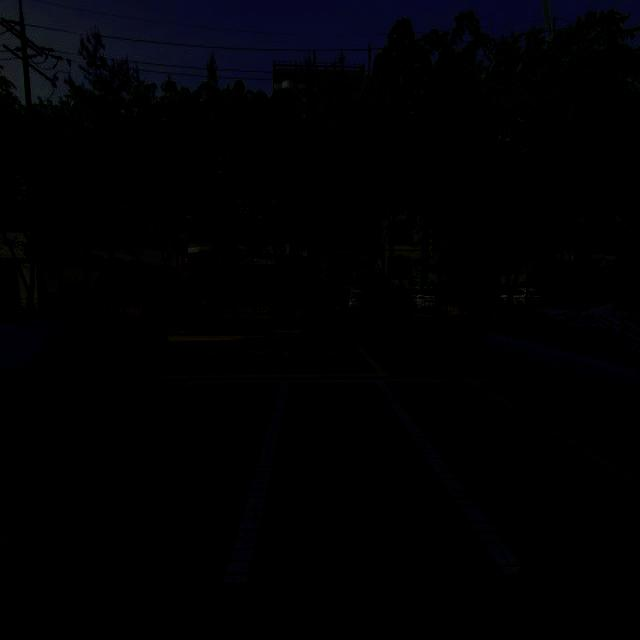empty: (0, 377, 286, 578), (251, 378, 487, 595), (386, 380, 640, 579)
occupied: (0, 313, 172, 519)
